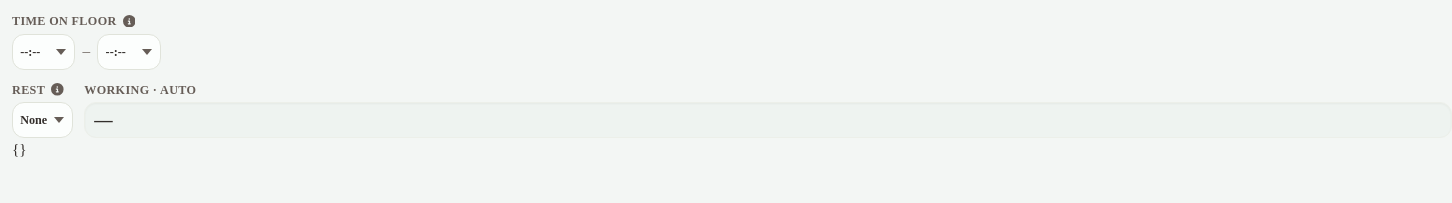
Test: WorkingTimeFields — derivation write-back › writes the derived paid minutes back on every clock edit
Select "08:00" in the dropdown with test id "wt-start" at [44, 52], box [12,34,75,70]
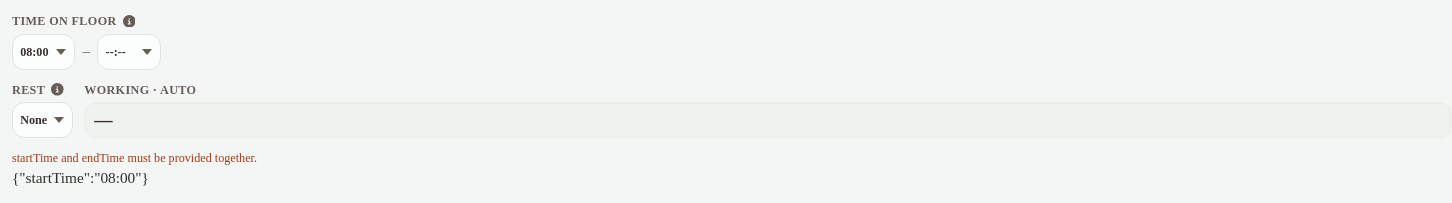
Select "16:00" in the dropdown with test id "wt-end" at [129, 52], box [97,34,161,70]
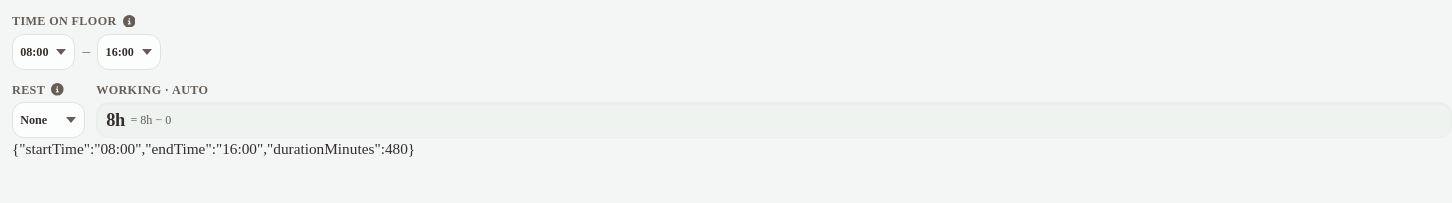
Result: the element with test id "wt-duration" shows "8h" at [106,110,125,130]
